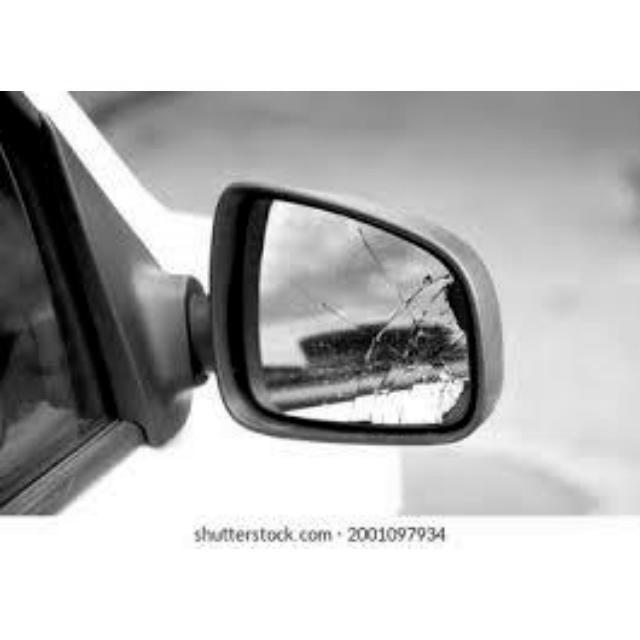Sidemirror-Damage: (208, 179, 495, 466)
